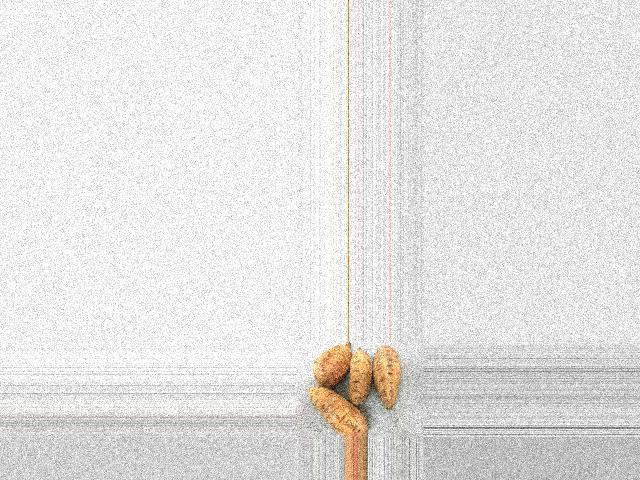sweet_potato: (302, 386, 374, 437)
